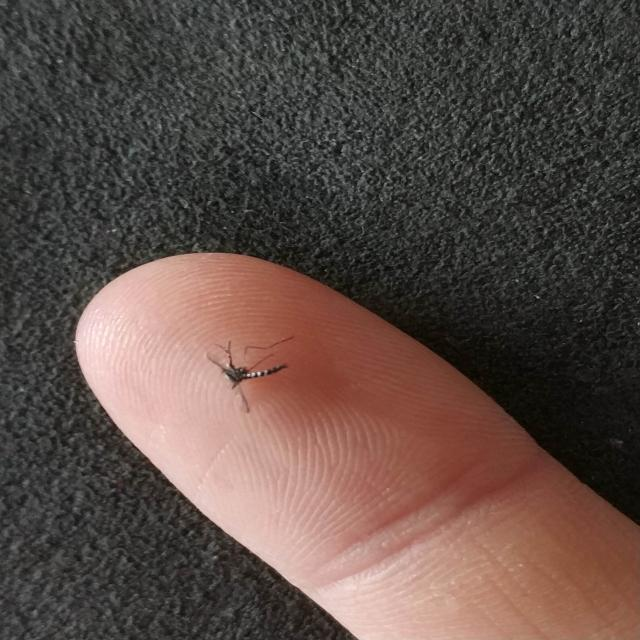albopictus: (197, 331, 299, 412)
